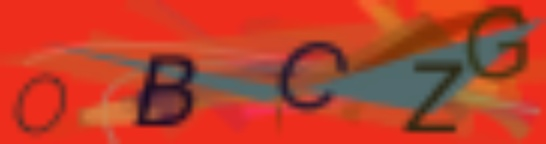B: (130, 49, 202, 131)
C: (278, 40, 349, 113)
G: (466, 3, 531, 81)
O: (9, 69, 70, 138)
Z: (399, 59, 466, 137)
